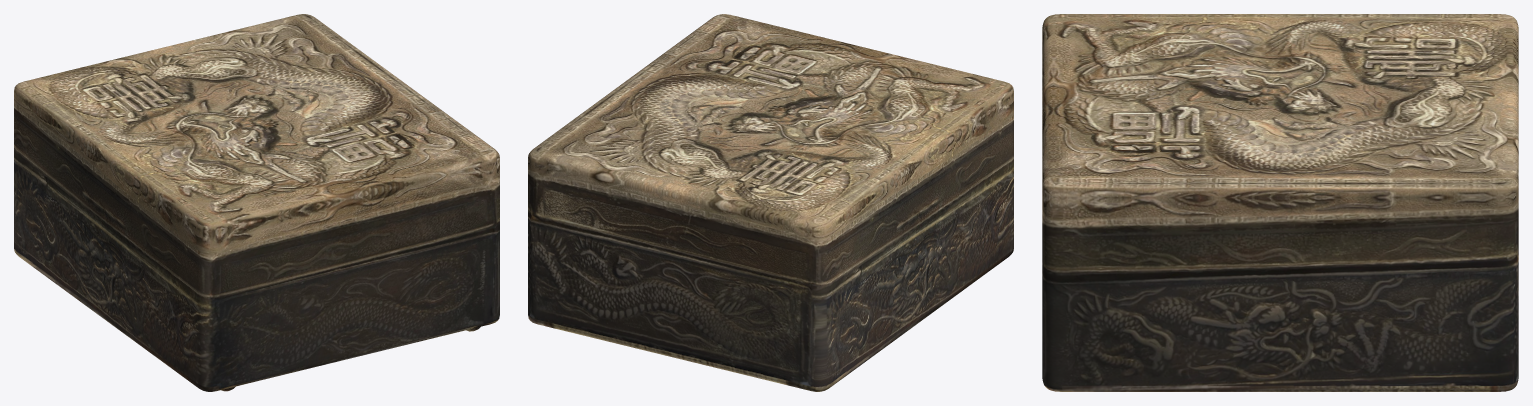
The model's file is metal_dragon_chinese_trinket_box_low_poly.glb.
The picture shows the model from 3 angles, left to right: view 1: azimuth 30°, elevation 25°; view 2: azimuth 150°, elevation 25°; view 3: azimuth 270°, elevation 25°; orthographic projection. The views are drawn at different scales.
Visible parts, largest first — view 1: DragonBox_001; view 2: DragonBox_001; view 3: DragonBox_001.
Boxes of the visible parts, x1,y1,x2,y2 form: DragonBox_001: (14, 14, 499, 391); DragonBox_001: (528, 14, 1013, 391); DragonBox_001: (1042, 14, 1518, 391).
Bounding box in the file's own units: 4.65 × 2.65 × 5.28.
Materials: 1 (1 with a texture image).
